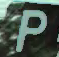Parking: (14, 6, 54, 56)
